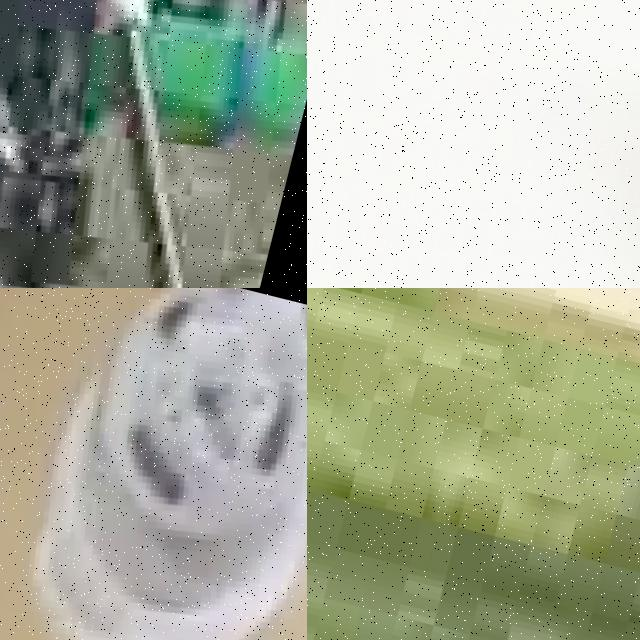drone: (0, 288, 307, 640), (307, 0, 640, 288), (0, 0, 307, 288)
